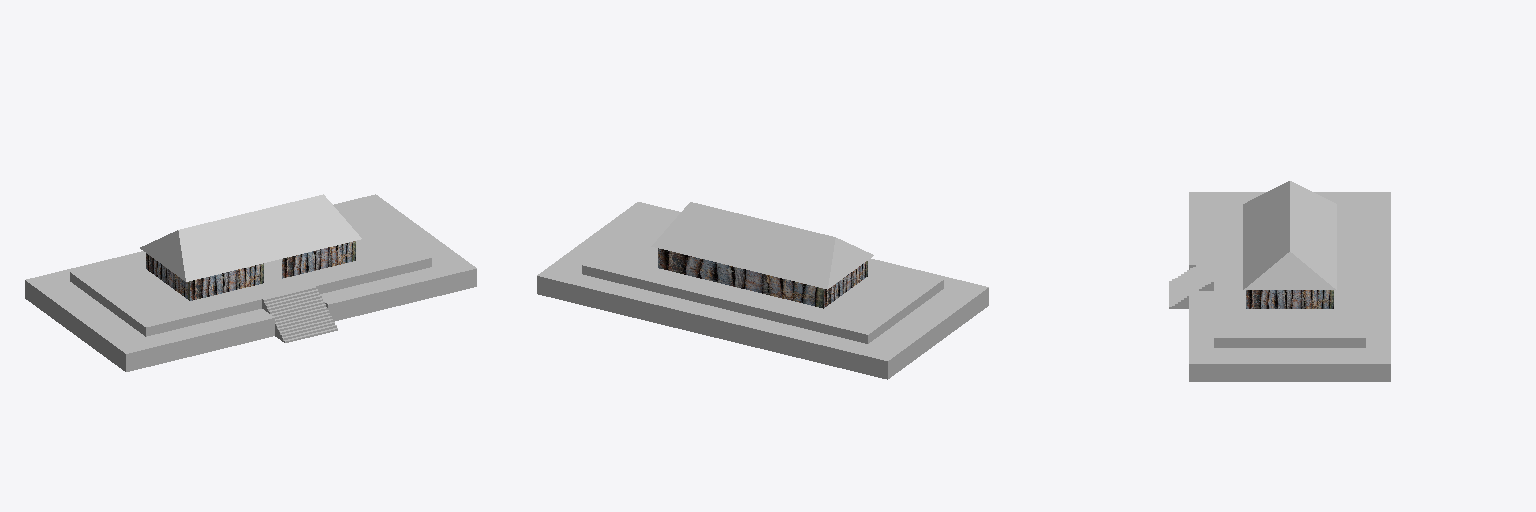
3 renders of one model, left to right at view 1: azimuth 30°, elevation 25°; view 2: azimuth 150°, elevation 25°; view 3: azimuth 270°, elevation 25°, orthographic.
Parts seen in each view (by area): view 1: Plane, Plane.001, Plane.004, Plane.003, Gradas; view 2: Plane, Plane.001, Plane.004, Plane.003; view 3: Plane, Plane.001, Plane.004, Plane.003, Gradas.
Boxes of the visible parts, x1,y1,x2,y2 form: Plane: [25, 194, 476, 371]; Plane.001: [70, 202, 431, 336]; Plane.004: [140, 194, 361, 281]; Plane.003: [146, 241, 355, 300]; Gradas: [262, 286, 337, 342]; Plane: [537, 202, 988, 379]; Plane.001: [582, 210, 943, 343]; Plane.004: [651, 202, 873, 289]; Plane.003: [658, 248, 867, 308]; Plane: [1189, 192, 1390, 381]; Plane.001: [1214, 199, 1365, 347]; Plane.004: [1243, 181, 1336, 289]; Plane.003: [1246, 290, 1333, 308]; Gradas: [1169, 256, 1213, 308].
Bounding box in the file's own units: 40 × 8.75 × 21.98.
Materials: 6 (1 with a texture image).